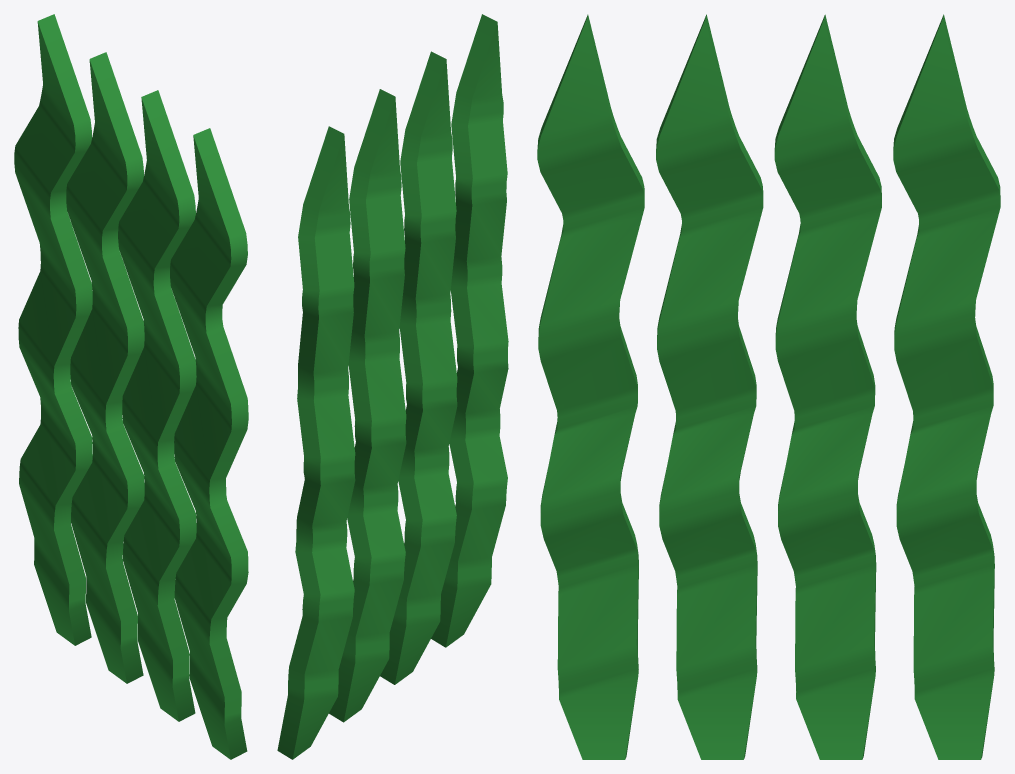
Rendered from Algas_02.fbx.
3 renders of one model, left to right at view 1: azimuth 30°, elevation 25°; view 2: azimuth 150°, elevation 25°; view 3: azimuth 270°, elevation 25°, orthographic. The views are drawn at different scales.
Parts seen in each view (by area): view 1: Cube.016, Cube.015, Cube.009, Cube.014; view 2: Cube.009, Cube.015, Cube.014, Cube.016; view 3: Cube.015, Cube.009, Cube.016, Cube.014.
Part boxes in pixels (<box>): Cube.016: <box>170,128,248,759</box>; Cube.015: <box>118,90,196,721</box>; Cube.009: <box>14,14,92,645</box>; Cube.014: <box>66,52,144,683</box>; Cube.009: <box>277,126,355,759</box>; Cube.015: <box>380,51,457,684</box>; Cube.014: <box>329,89,406,722</box>; Cube.016: <box>431,14,508,647</box>; Cube.015: <box>656,14,763,759</box>; Cube.009: <box>893,14,1000,759</box>; Cube.016: <box>537,14,644,759</box>; Cube.014: <box>774,14,881,759</box>.
Size of the model in its own units: 3.1 by 36.38 by 21.01.
